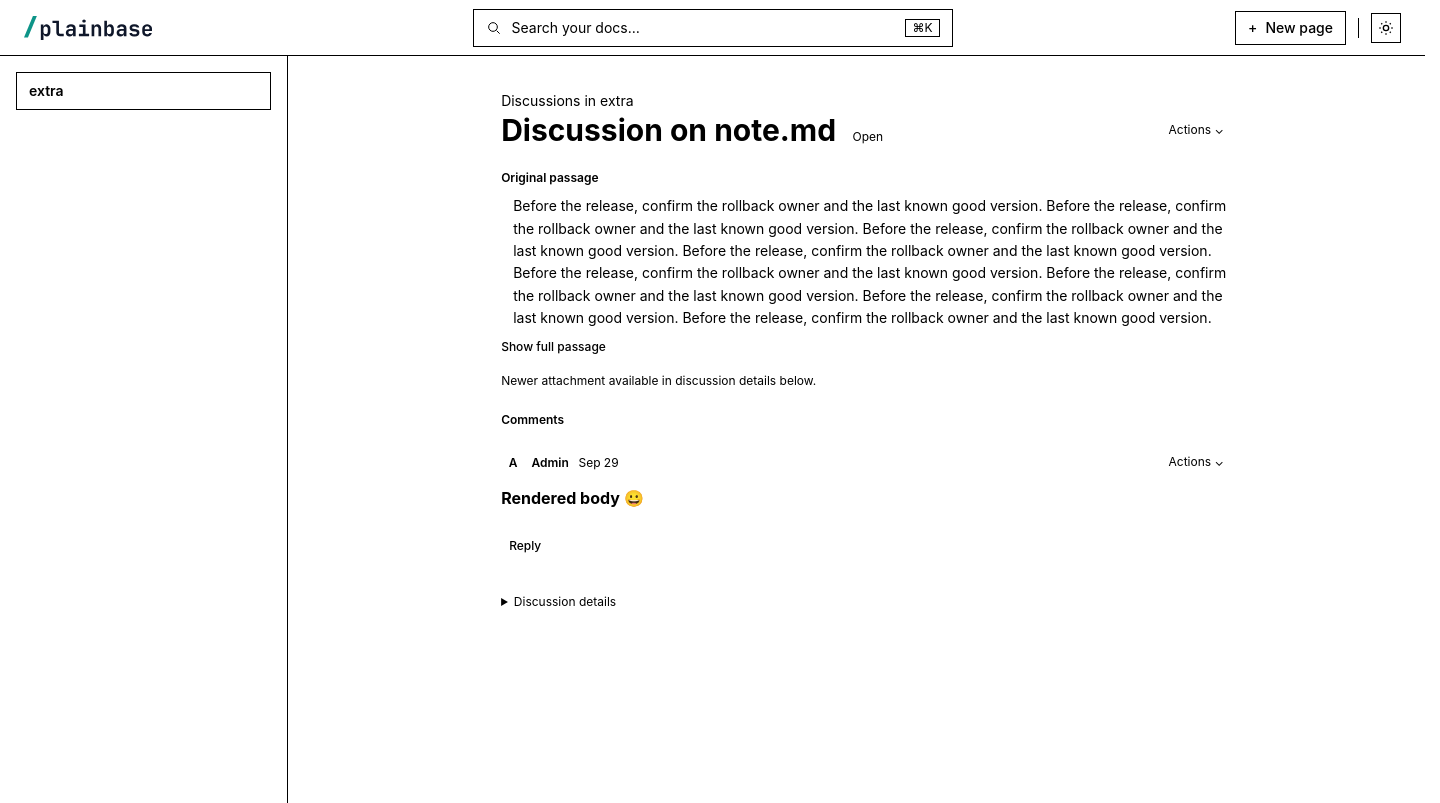
Test: expands and collapses the full immutable original passage without substituting the latest attachment
Click the button "Show full passage" at point(558, 348), box [501,335,614,360]
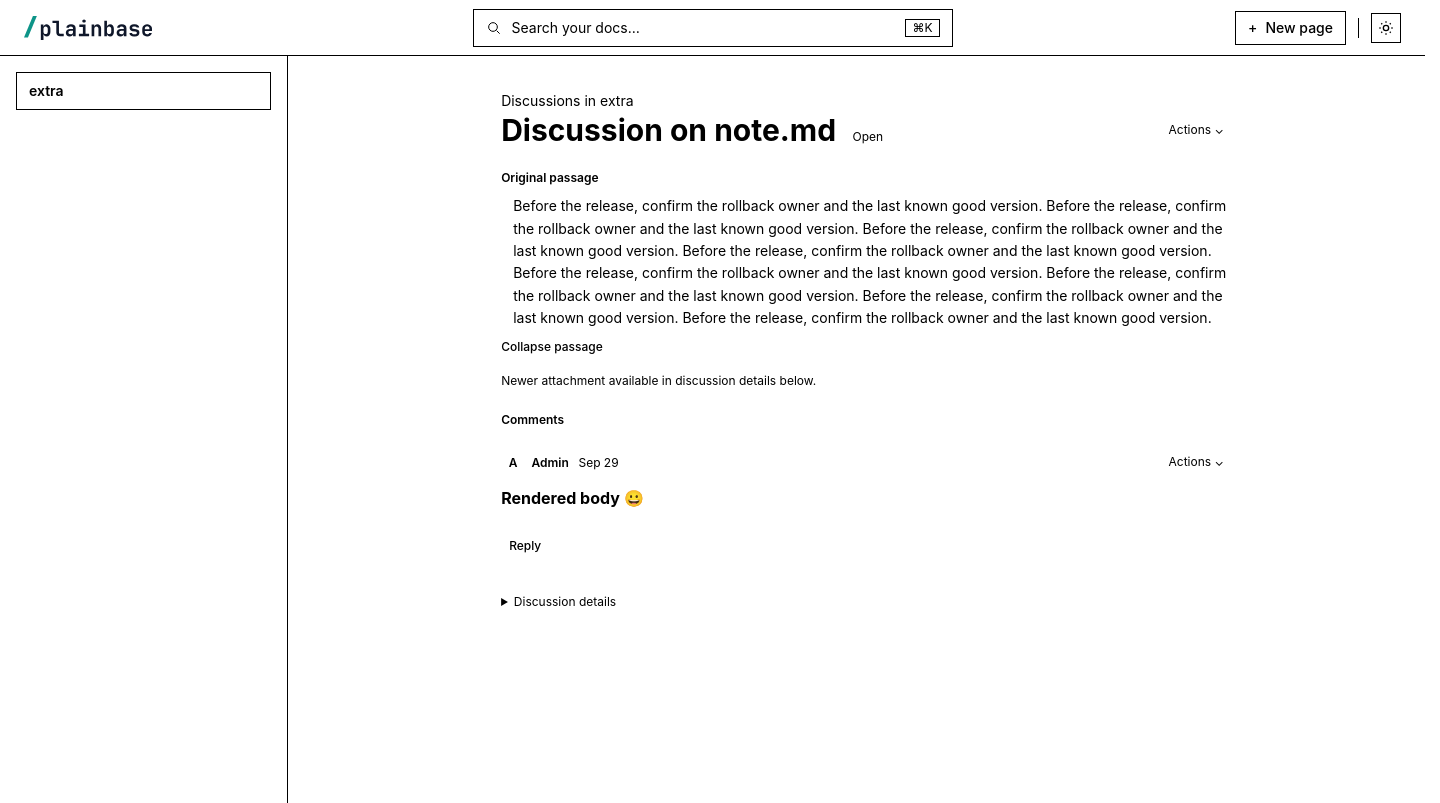
Expected: the button "Collapse passage" is expanded
Click the button "Collapse passage" at point(556, 348), box [501,335,611,360]
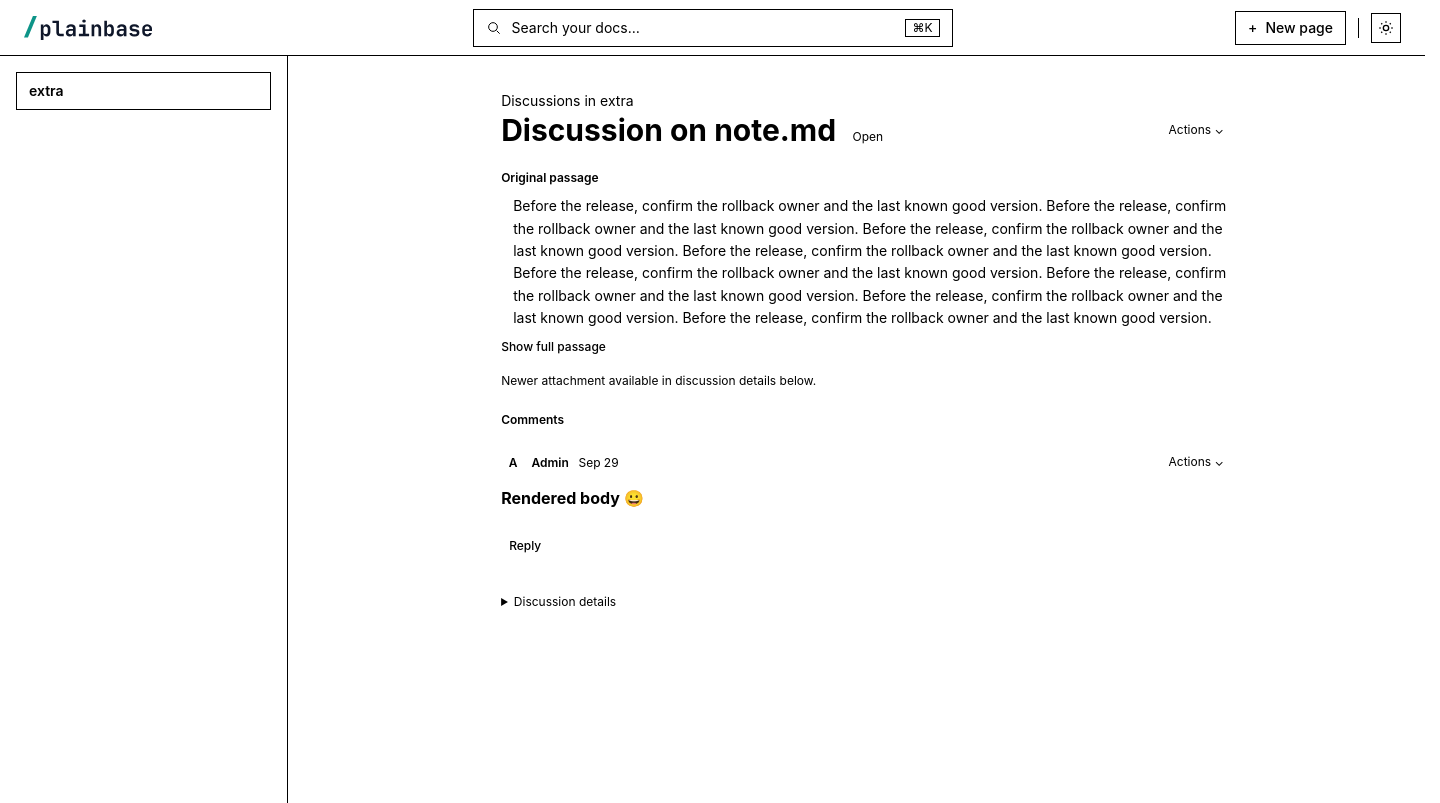
Expected: the button "Show full passage" is collapsed, [501,335,614,360]
Click the heading "Discussion details" at point(565, 601), box [514,594,616,608]
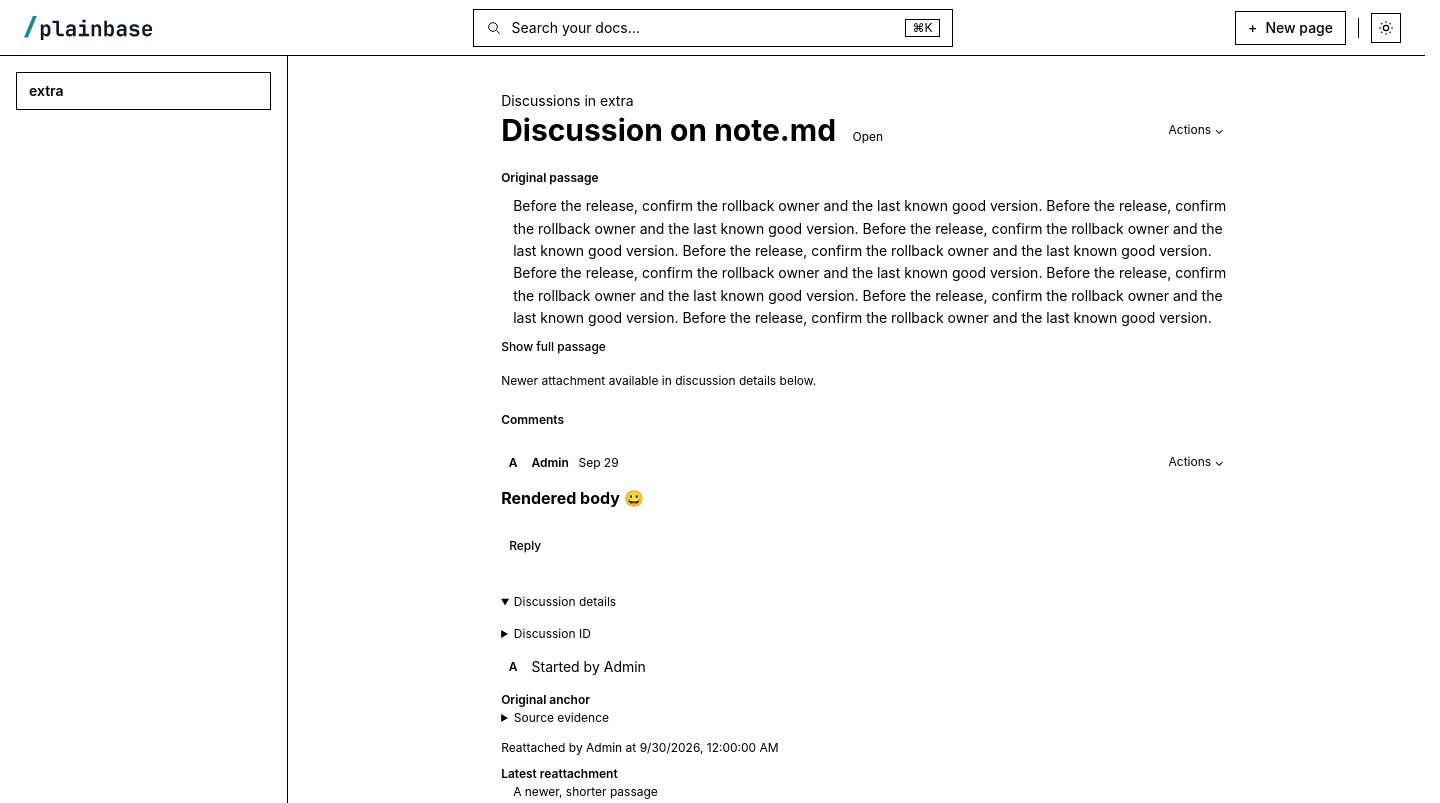
Expected: the text "A newer, shorter passage" is shown, [513,784,658,799]
